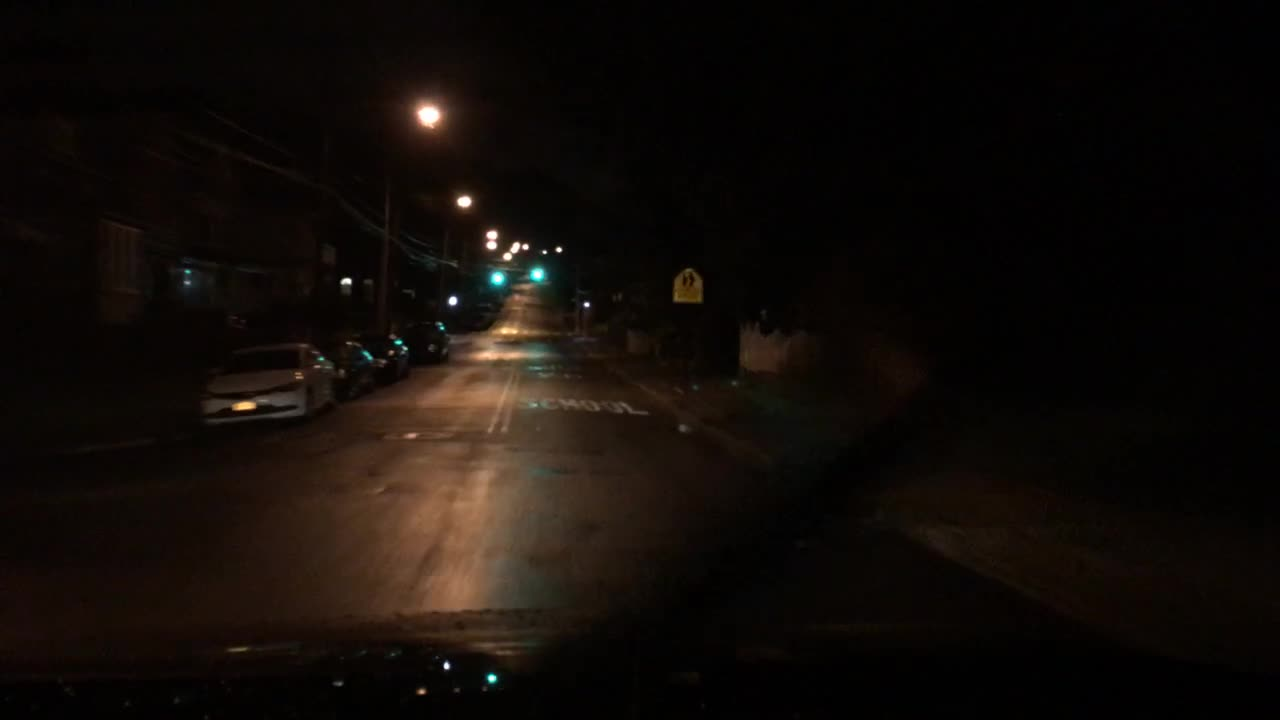car: (193, 333, 345, 437), (323, 342, 381, 396), (361, 335, 412, 384), (399, 318, 451, 366), (459, 301, 499, 332), (488, 291, 505, 301)
traffic light: (486, 271, 506, 287), (531, 264, 547, 282)
traffic sign: (670, 268, 705, 303), (321, 247, 337, 265)
